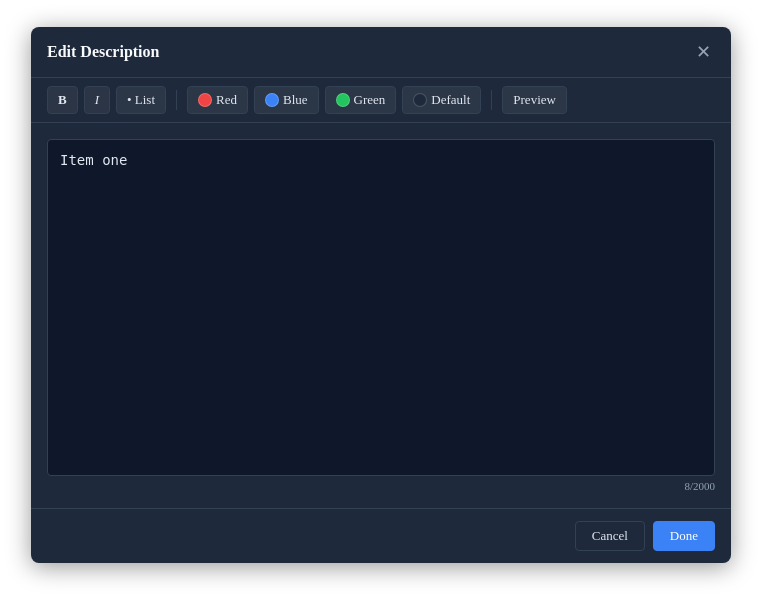
DescriptionModal › toolbar bullet button › adds bullet prefix to current line
Click the button with test id "toolbar-bullet".
click(141, 100)  # box [116,86,166,114]
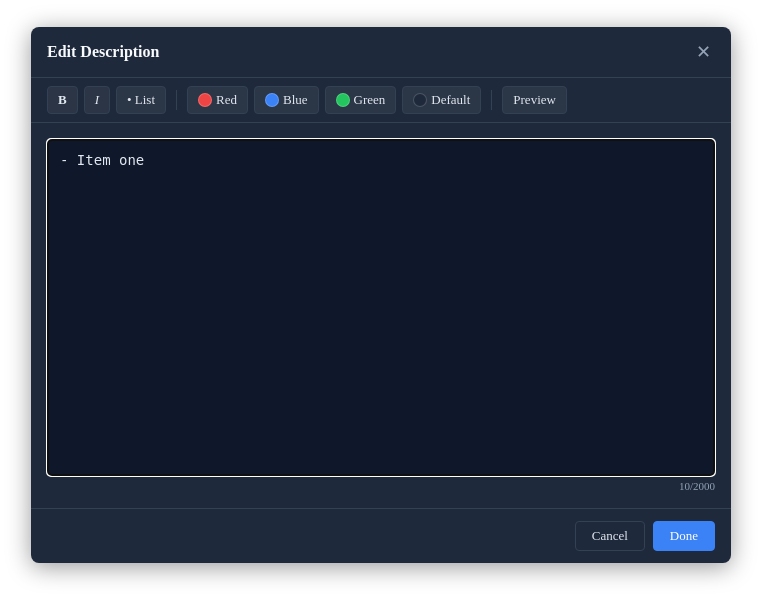
expect the text box with test id "description-modal-textarea" holds "- Item one": met, box [47,139,715,476]
